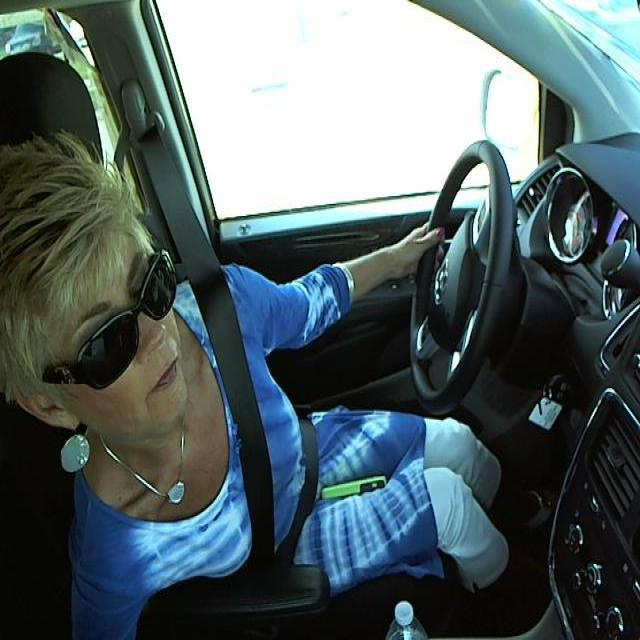seatbelt: (187, 194, 320, 606)
